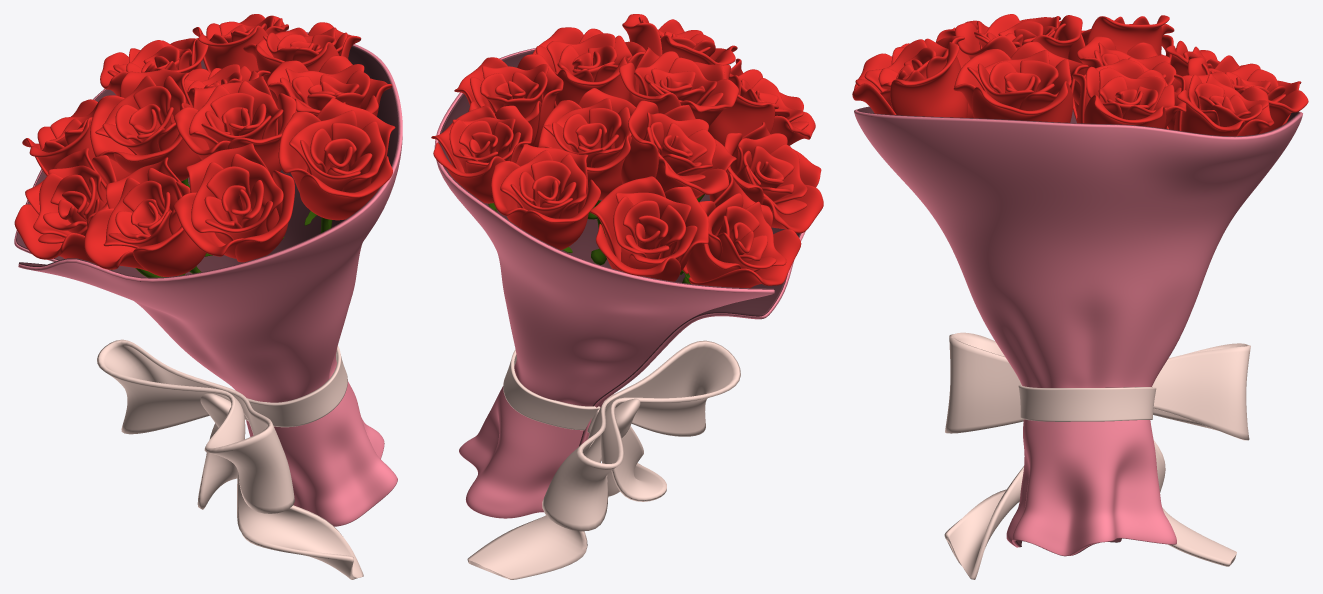
File: bouquet.glb
The picture shows the model from 3 angles, left to right: view 1: azimuth 30°, elevation 25°; view 2: azimuth 150°, elevation 25°; view 3: azimuth 270°, elevation 25°; orthographic projection. The views are drawn at different scales.
Parts seen in each view (by area): view 1: Plane.081, Cube.071, Cube.072, Plane.204, Plane.203, Plane.172, Plane.117, Plane.150, Plane.106, Plane.115, Plane.128, Plane.215 (+56 smaller); view 2: Plane.081, Cube.071, Cube.070, Plane.204, Plane.203, Cube.072, Plane.084, Plane.106, Plane.127, Plane.149, Plane.093, Plane.182 (+60 smaller); view 3: Plane.081, Cube.071, Plane.203, Plane.171, Cube.072, Plane.183, Cube.070, Plane.127, Plane.214, Plane.172, Plane.193, Plane.181 (+17 smaller).
Boxes of the visible parts, bbox=[...] form: Plane.081: bbox=[14, 30, 402, 526]; Cube.071: bbox=[97, 339, 294, 513]; Cube.072: bbox=[237, 470, 363, 579]; Plane.204: bbox=[16, 33, 399, 278]; Plane.203: bbox=[244, 345, 347, 427]; Plane.172: bbox=[299, 156, 392, 220]; Plane.117: bbox=[133, 181, 206, 276]; Plane.150: bbox=[235, 170, 294, 262]; Plane.106: bbox=[14, 204, 94, 263]; Plane.115: bbox=[84, 208, 147, 270]; Plane.128: bbox=[113, 102, 201, 181]; Plane.215: bbox=[198, 25, 267, 71]; Plane.081: bbox=[434, 48, 805, 518]; Cube.071: bbox=[542, 340, 740, 531]; Cube.070: bbox=[467, 435, 601, 579]; Plane.204: bbox=[438, 49, 801, 446]; Plane.203: bbox=[503, 349, 613, 433]; Cube.072: bbox=[607, 426, 666, 501]; Plane.084: bbox=[520, 179, 600, 250]; Plane.106: bbox=[688, 229, 801, 288]; Plane.127: bbox=[621, 100, 658, 183]; Plane.149: bbox=[708, 65, 774, 145]; Plane.093: bbox=[590, 176, 665, 260]; Plane.182: bbox=[555, 56, 629, 105]; Plane.081: bbox=[854, 109, 1302, 556]; Cube.071: bbox=[945, 332, 1250, 440]; Plane.203: bbox=[1018, 385, 1156, 421]; Plane.171: bbox=[890, 42, 967, 117]; Cube.072: bbox=[944, 466, 1023, 579]; Plane.183: bbox=[972, 81, 1073, 122]; Cube.070: bbox=[1153, 440, 1236, 566]; Plane.127: bbox=[1086, 15, 1169, 55]; Plane.214: bbox=[1177, 90, 1245, 136]; Plane.172: bbox=[852, 53, 896, 114]; Plane.193: bbox=[1084, 95, 1166, 128]; Plane.181: bbox=[953, 49, 1011, 112].
Bounding box in the file's own units: 0.5904 × 0.8063 × 0.6449.
